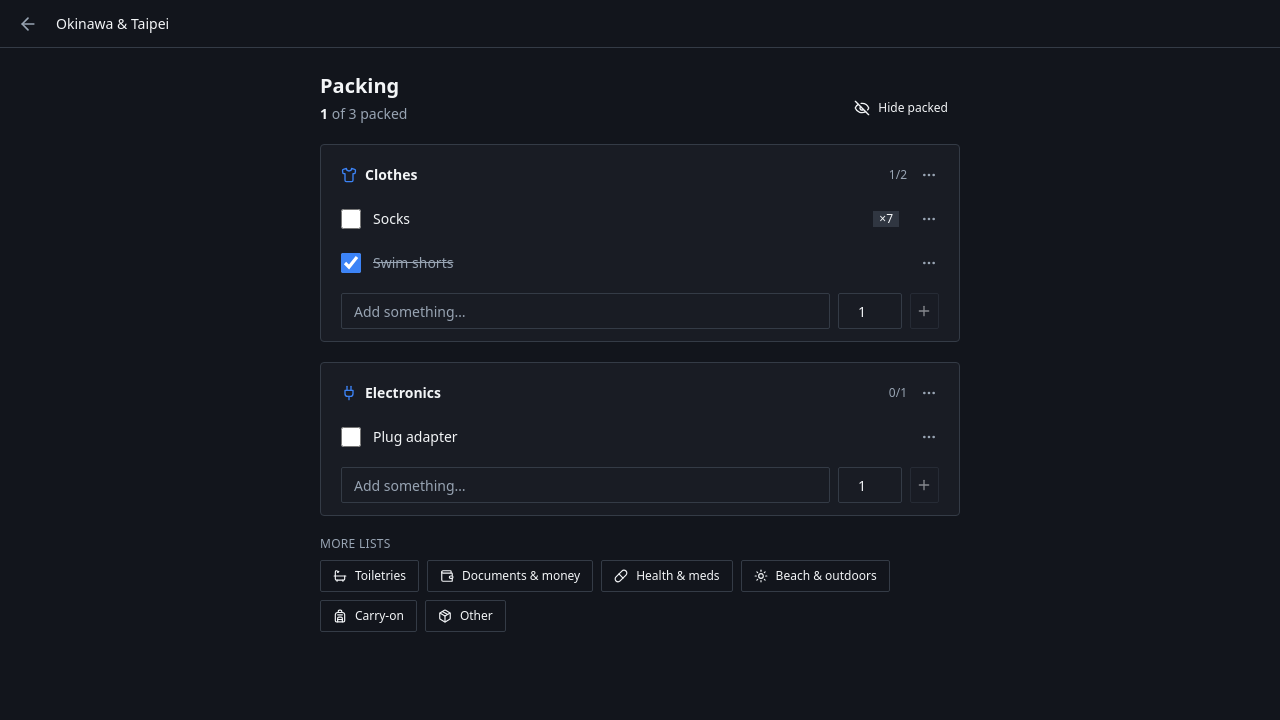
the Packing page › edits (name and how many) and deletes from ⋯
The image size is (1280, 720).
Click the button named "More for Socks": click(929, 219) [911, 201, 947, 237]
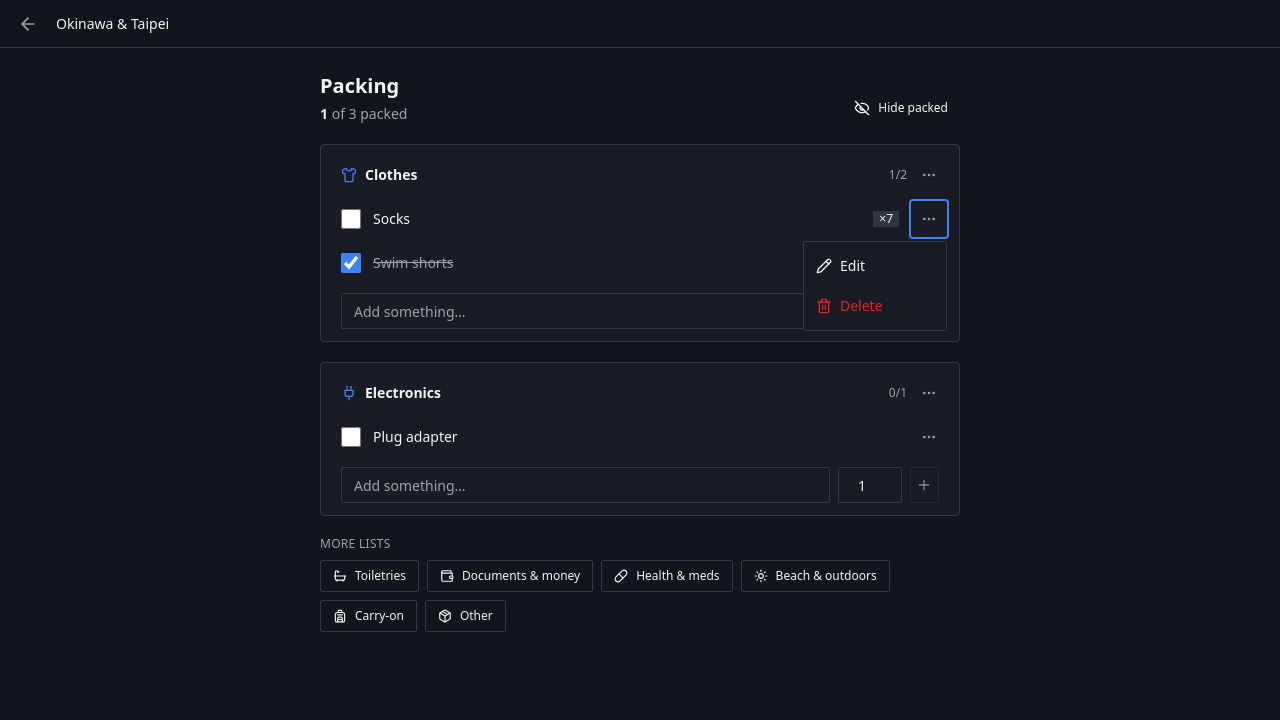
Click the menu item "Edit": click(875, 266) [804, 246, 946, 286]
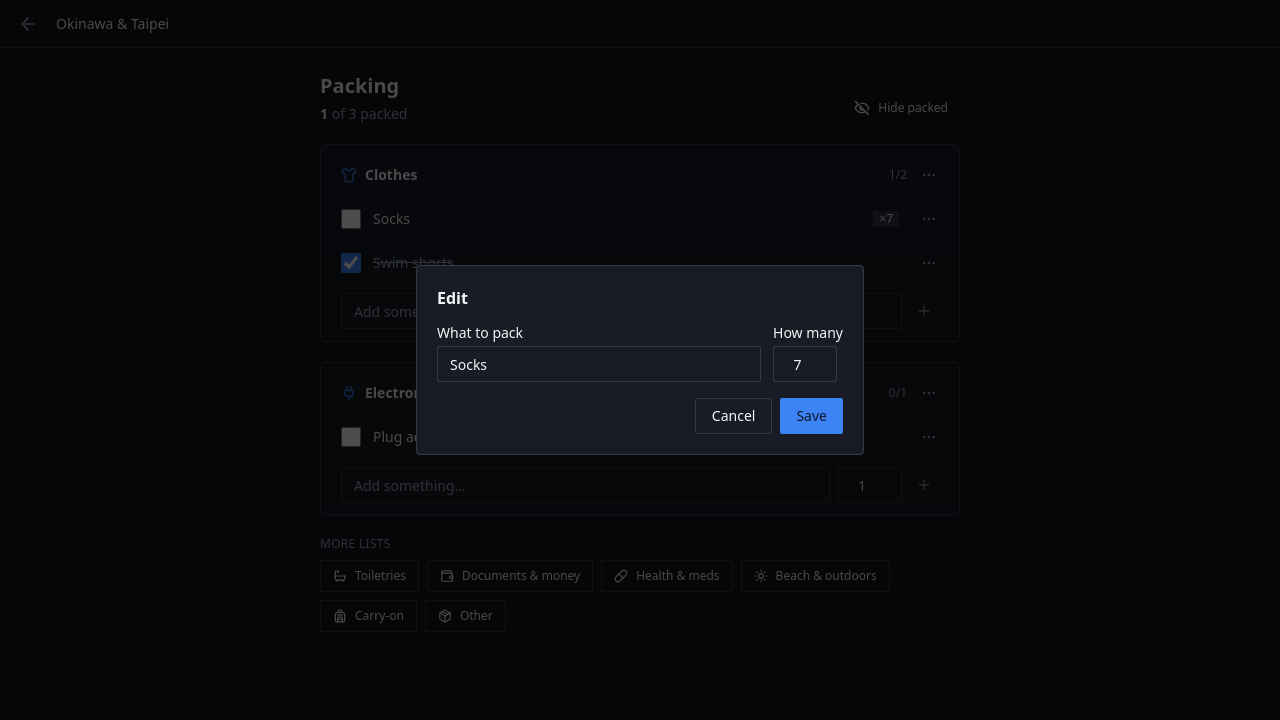
Check: the number field labelled "How many" holds "7", box [773, 346, 837, 382]
Replace the text in the field labelled "What to pack" with "Wool socks": (599, 364) [437, 346, 761, 382]
Replace the text in the number field labelled "How many" with "4": (805, 364) [773, 346, 837, 382]
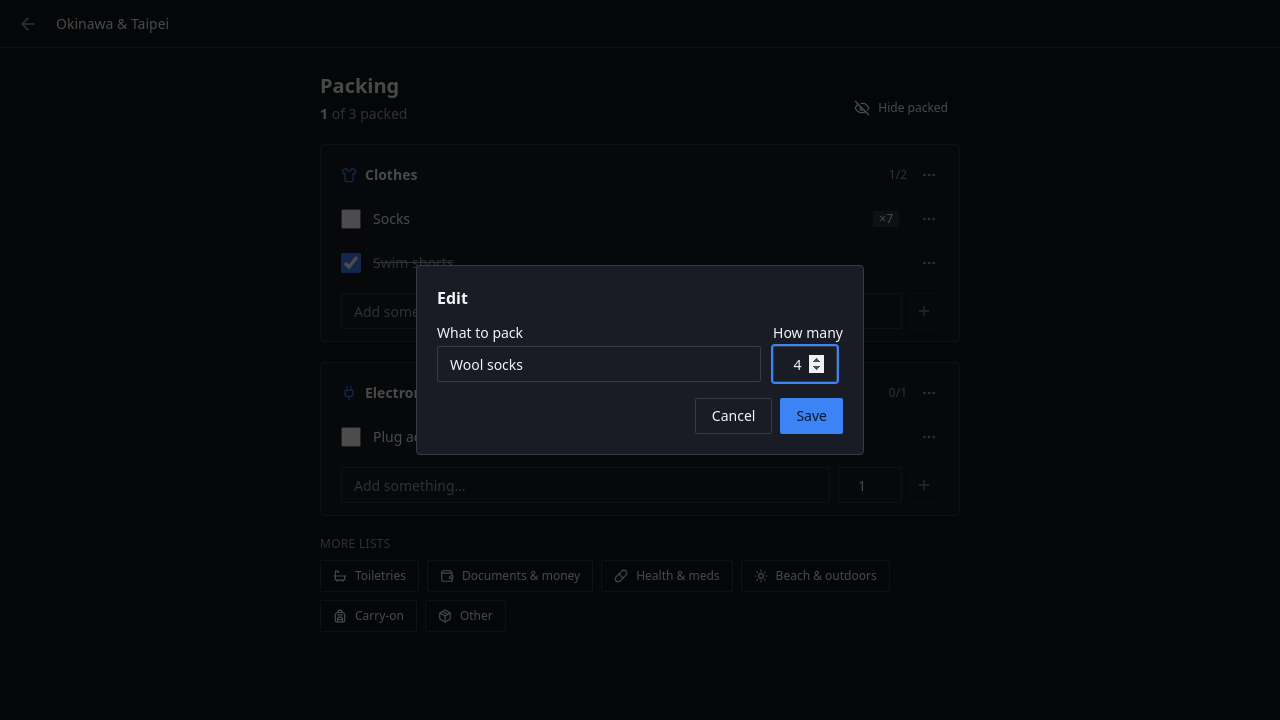
Click the button "Save": click(812, 416) [780, 398, 843, 434]
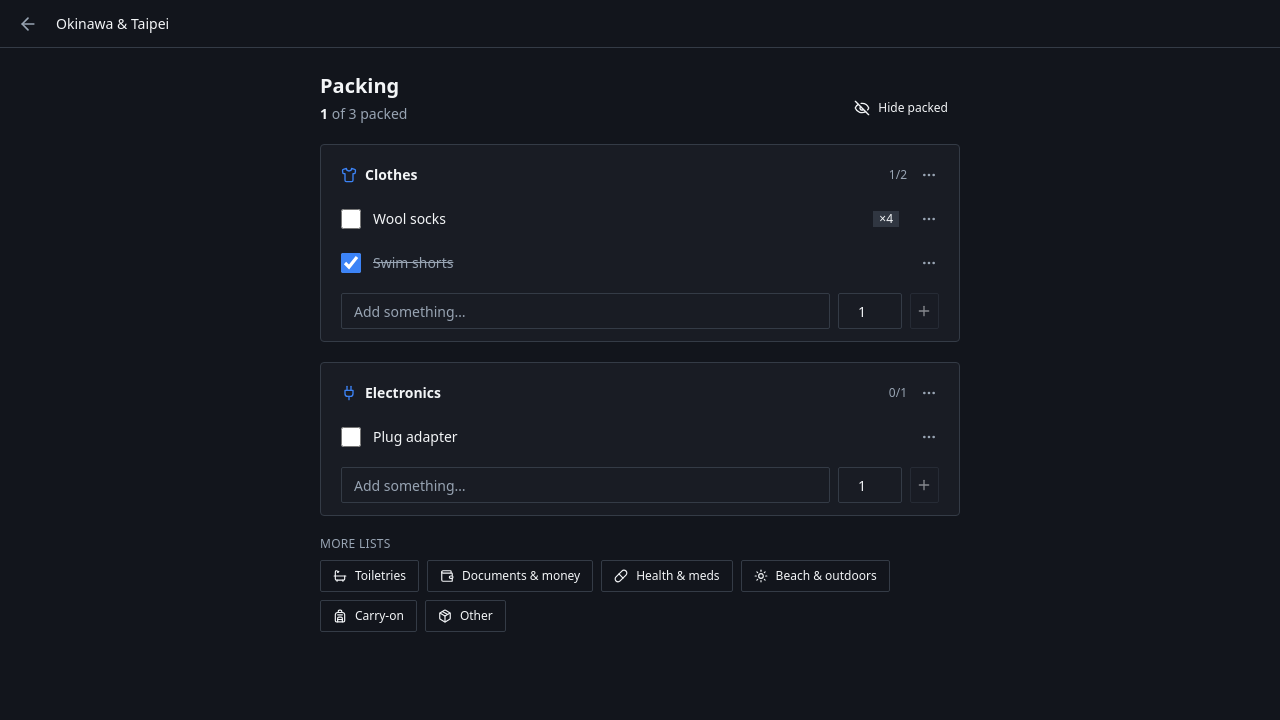
Check: the checkbox labelled "Wool socks ×4" is shown, box [341, 209, 361, 229]
Click the button named "More for Plug adapter": click(929, 437) [911, 419, 947, 455]
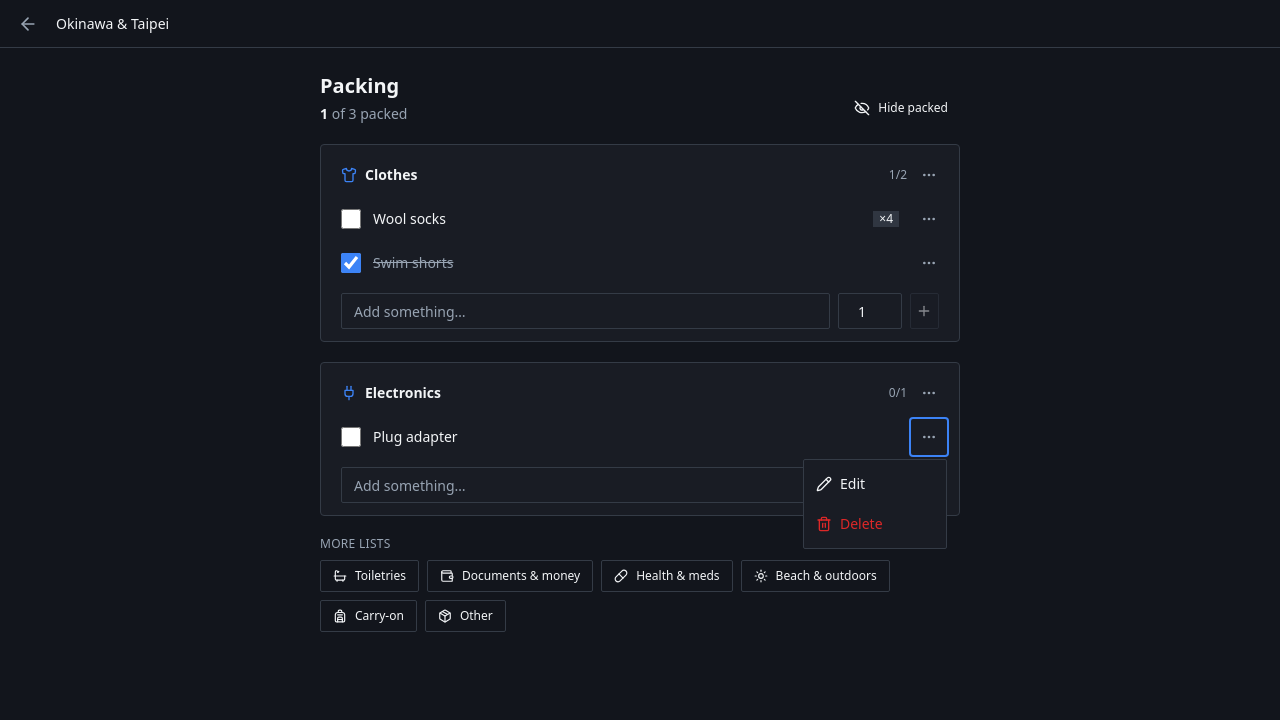
Click the menu item "Delete": click(875, 524) [804, 504, 946, 544]
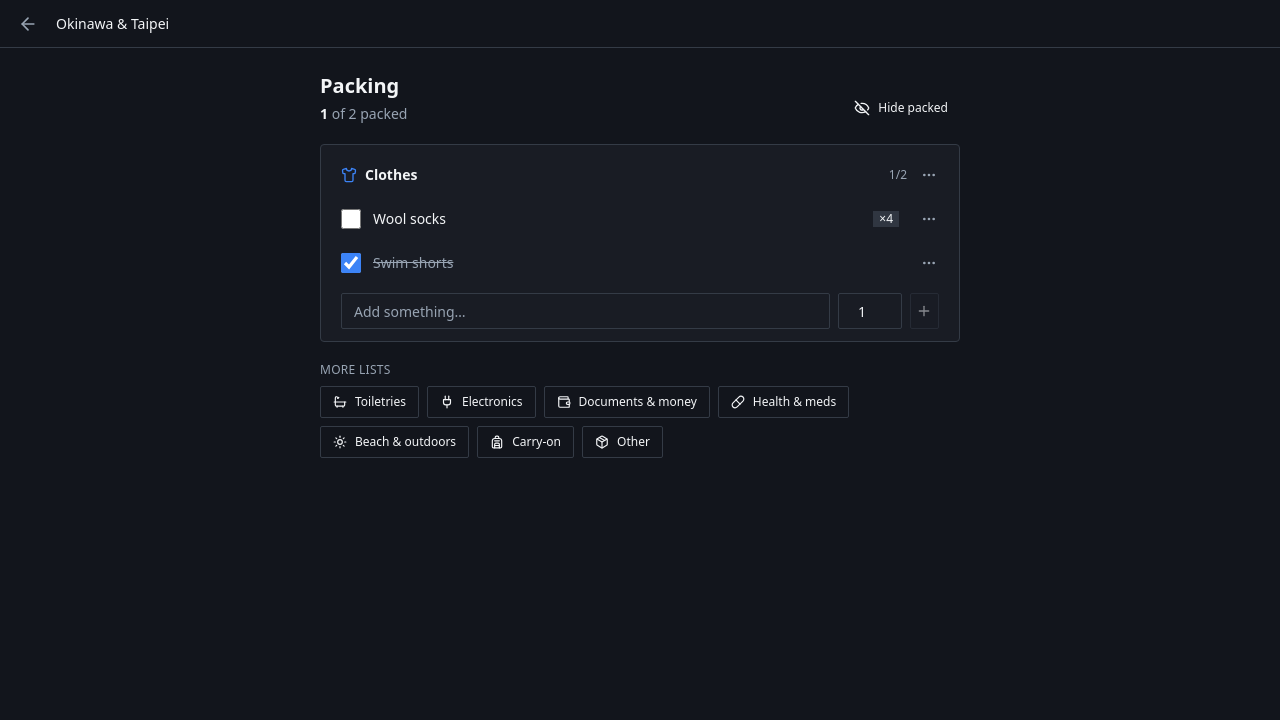
Check: the text "Plug adapter" is gone
